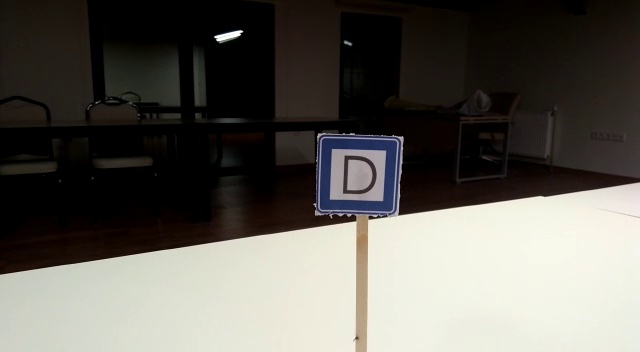durak: (316, 136, 403, 215)
